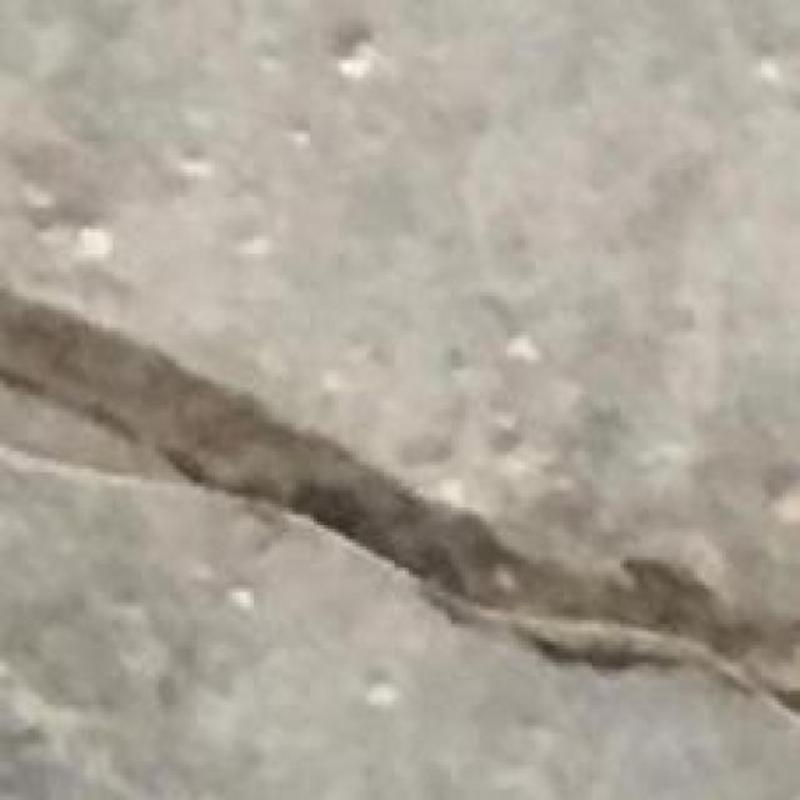pothole: (0, 289, 799, 711)
